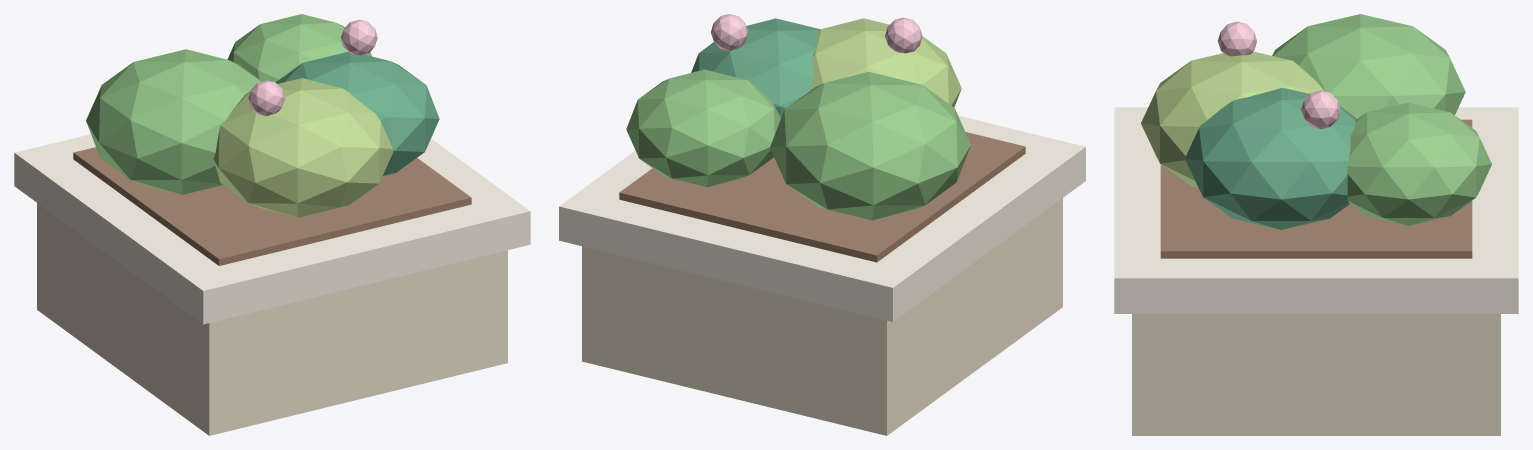
Rendered from Obstacle_Planter_1x1.glb.
3 views of the same model, side by side, from view 1: azimuth 30°, elevation 25°; view 2: azimuth 150°, elevation 25°; view 3: azimuth 270°, elevation 25° (orthographic). The views are drawn at different scales.
Visible parts, largest first — view 1: planter_0, rim_1, bush_5, bush_3, soil_2, bush_4, bush_6, flower_8, flower_7; view 2: planter_0, rim_1, bush_3, soil_2, bush_6, bush_5, bush_4, flower_8, flower_7; view 3: planter_0, rim_1, bush_4, soil_2, bush_6, bush_3, bush_5, flower_8, flower_7.
Boxes of the visible parts, <box> form: planter_0: <box>37,203,507,435</box>; rim_1: <box>14,134,530,324</box>; bush_5: <box>213,78,392,217</box>; bush_3: <box>86,49,261,194</box>; soil_2: <box>73,147,471,265</box>; bush_4: <box>275,52,439,175</box>; bush_6: <box>227,14,371,82</box>; flower_8: <box>341,19,377,55</box>; flower_7: <box>248,80,285,116</box>; planter_0: <box>582,198,1062,435</box>; rim_1: <box>559,115,1085,321</box>; bush_3: <box>770,71,970,220</box>; soil_2: <box>619,132,1025,262</box>; bush_6: <box>626,69,780,187</box>; bush_5: <box>810,18,961,107</box>; bush_4: <box>691,18,820,117</box>; flower_8: <box>711,14,748,50</box>; flower_7: <box>885,17,922,53</box>; planter_0: <box>1132,314,1500,435</box>; rim_1: <box>1114,107,1518,313</box>; bush_4: <box>1184,88,1357,229</box>; soil_2: <box>1160,119,1472,258</box>; bush_6: <box>1347,102,1491,225</box>; bush_3: <box>1272,14,1465,118</box>; bush_5: <box>1141,51,1323,187</box>; flower_8: <box>1301,90,1340,129</box>; flower_7: <box>1217,21,1256,56</box>.
Bounding box in the file's own units: 0.92 × 0.785 × 0.92.
